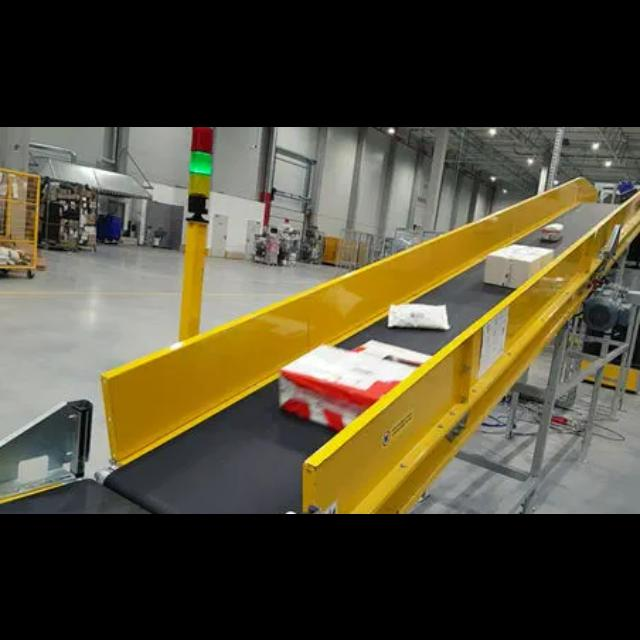box: (279, 344, 415, 424), (482, 244, 552, 286), (541, 222, 563, 242)
mailer: (387, 300, 449, 328)
